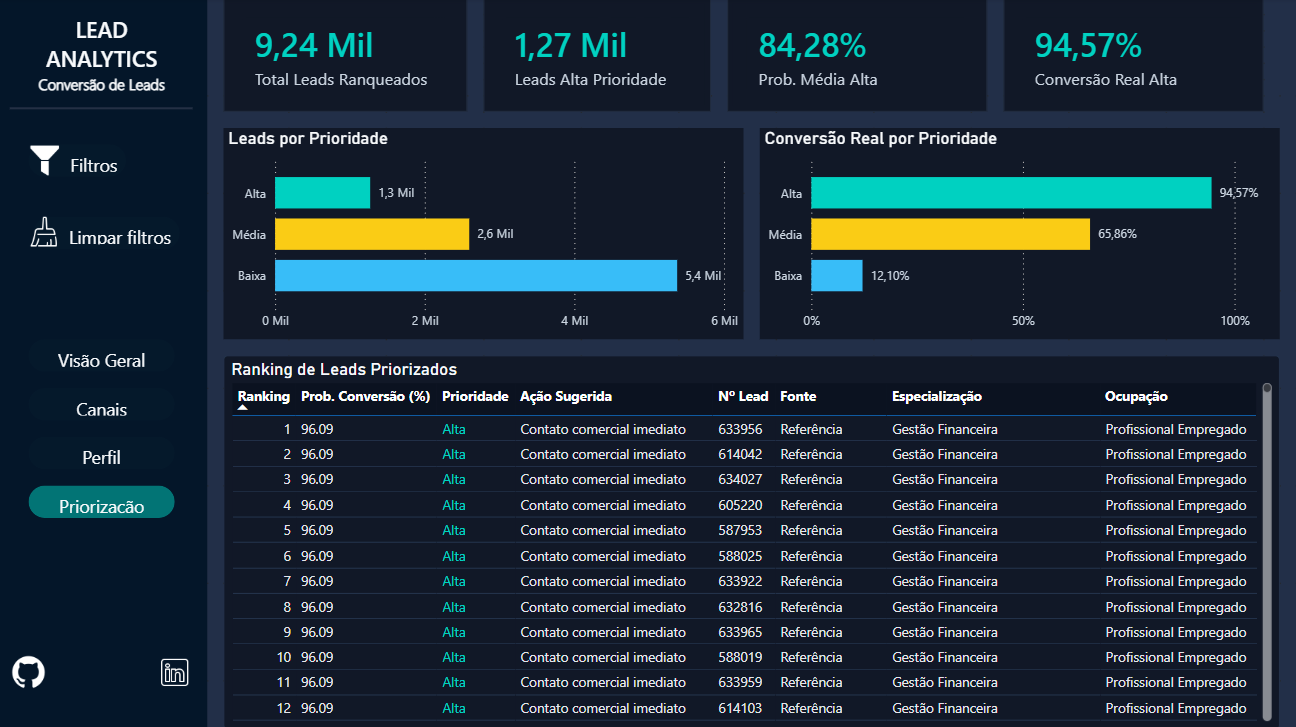

This screenshot's page, from the dashboard's own definition file:
{"tool":"powerbi","page":{"name":"04 Priorização","canvas":[1280,720],"ordinal":3},"visuals":[{"type":"shape","box":[0,0,208,720],"z":0,"group":"g1"},{"type":"cardVisual","fields":{"Data":["ranking_leads_base_completa.Total Leads Ranqueados"]},"box":[224,0,240,112],"z":0},{"type":"actionButton","title":"Filtros","box":[32,336,144,32],"z":250,"group":"g1"},{"type":"image","box":[0,640,64,48],"z":500,"group":"g1"},{"type":"actionButton","title":"Filtros","box":[32,480,144,32],"z":625,"group":"g1"},{"type":"actionButton","box":[32,384,144,32],"z":750,"group":"g1"},{"type":"actionButton","box":[32,432,144,32],"z":875,"group":"g1"},{"type":"cardVisual","fields":{"Data":["ranking_leads_base_completa.Leads Alta Prioridade"]},"box":[480,0,224,112],"z":1000},{"type":"textbox","box":[0,10.8,207.8,89.1],"z":1000,"group":"g1"},{"type":"textbox","box":[0,70.7,208,41.8],"z":2000,"group":"g1"},{"type":"barChart","title":"Conversão Real por Prioridade","fields":{"Y":["ranking_leads_base_completa.Taxa Conversao Real Prioridade"],"Category":["ranking_leads_base_completa.prioridade"]},"box":[752,128,512,208],"z":2000},{"type":"cardVisual","fields":{"Data":["ranking_leads_base_completa.Probabilidade Média Alta Corrigida"]},"box":[720,0,256,112],"z":3000},{"type":"shape","box":[13.3,69.3,180.2,79.4],"z":3000,"group":"g1"},{"type":"barChart","title":"Leads por Prioridade","fields":{"Category":["ranking_leads_base_completa.prioridade"],"Y":["ranking_leads_base_completa.Total Leads Ranqueados"]},"box":[224,128,512,208],"z":4000},{"type":"actionButton","title":"Filtros","box":[32,144,96,32],"z":4000,"group":"g1"},{"type":"image","box":[32,144,32,32],"z":5000,"group":"g1"},{"type":"image","box":[32,144,32,32],"z":5000},{"type":"actionButton","title":"Filtros","box":[37,215,144,32],"z":5500,"group":"g1"},{"type":"image","box":[160,640,32,48],"z":5750,"group":"g1"},{"type":"image","box":[32,215,32,32],"z":6000,"group":"g1"},{"type":"tableEx","title":"Ranking de Leads Priorizados","fields":{"Values":["Sum(ranking_leads_base_completa.Ranking Num)","ranking_leads_base_completa.probabilidade_percentual","ranking_leads_base_completa.prioridade","ranking_leads_base_completa.acao_sugerida","ranking_leads_base_completa.numero_do_lead","ranking_leads_base_completa.fonte_do_lead","ranking_leads_base_completa.especializacao","ranking_leads_base_completa.ocupacao_atual"]},"box":[224,352,1040,368],"z":6000},{"type":"group","id":"g1","title":"Grupo 2","box":[0,0,208,720],"z":7000},{"type":"cardVisual","fields":{"Data":["ranking_leads_base_completa.KPI Conversao Real Alta"]},"box":[992,0,256,112],"z":9000}]}

Visuals, with their boxes in screenshot pixels (x1, y1, x2, y2), scaled from the page's 1280x720 canvas onto the 1296x727 screenshot:
shape: region(0, 0, 211, 726)
cardVisual - ranking_leads_base_completa.Total Leads Ranqueados: region(227, 0, 470, 113)
"Filtros" actionButton: region(32, 339, 178, 372)
image: region(0, 646, 65, 695)
"Filtros" actionButton: region(32, 485, 178, 517)
actionButton: region(32, 388, 178, 420)
actionButton: region(32, 436, 178, 469)
cardVisual - ranking_leads_base_completa.Leads Alta Prioridade: region(486, 0, 713, 113)
textbox: region(0, 11, 210, 101)
textbox: region(0, 71, 211, 114)
"Conversão Real por Prioridade" barChart: region(761, 129, 1280, 339)
cardVisual - ranking_leads_base_completa.Probabilidade Média Alta Corrigida: region(729, 0, 988, 113)
shape: region(13, 70, 196, 150)
"Leads por Prioridade" barChart: region(227, 129, 745, 339)
"Filtros" actionButton: region(32, 145, 130, 178)
image: region(32, 145, 65, 178)
image: region(32, 145, 65, 178)
"Filtros" actionButton: region(37, 217, 183, 249)
image: region(162, 646, 194, 695)
image: region(32, 217, 65, 249)
"Ranking de Leads Priorizados" tableEx: region(227, 355, 1280, 726)
"Grupo 2" group: region(0, 0, 211, 726)
cardVisual - ranking_leads_base_completa.KPI Conversao Real Alta: region(1004, 0, 1264, 113)
